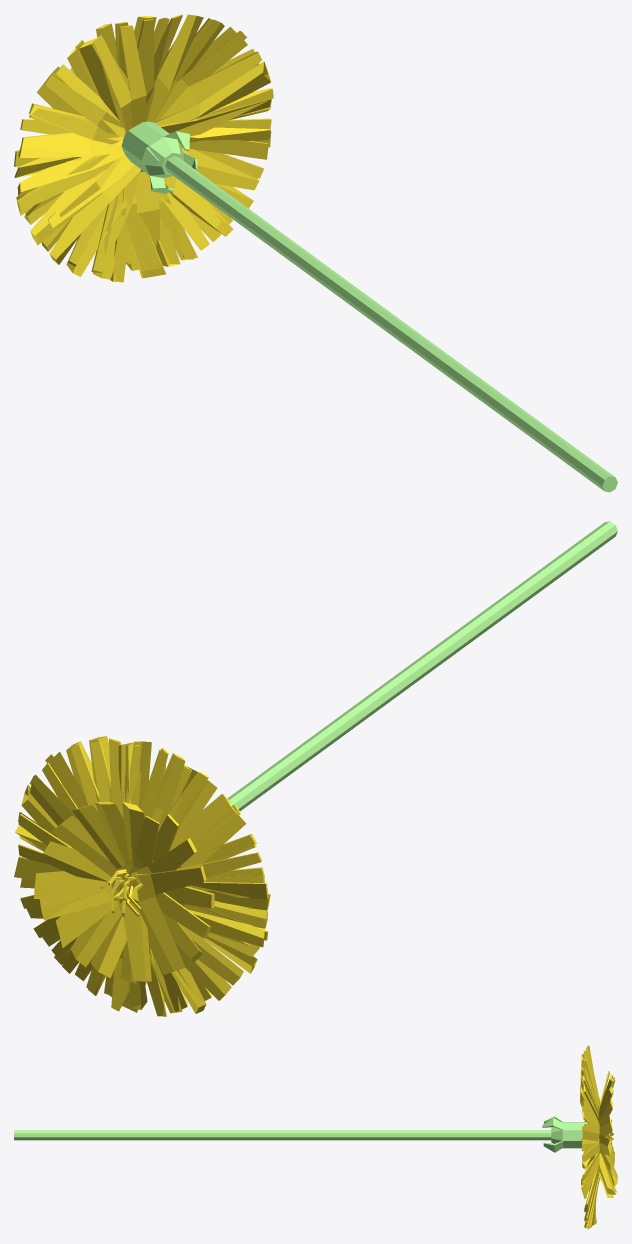
The model's file is dandelion (3).fbx.
3 renders of one model, top to bottom at view 1: azimuth 30°, elevation 25°; view 2: azimuth 150°, elevation 25°; view 3: azimuth 270°, elevation 25°, orthographic. The views are drawn at different scales.
Parts seen in each view (by area): view 1: Plane; view 2: Plane; view 3: Plane.
Part boxes in pixels (left/top/right/bottom): Plane: left=14, top=14, right=617, bottom=492; Plane: left=14, top=521, right=617, bottom=1016; Plane: left=14, top=1045, right=617, bottom=1229.
Size of the model in its own units: 2.52 by 2.54 by 8.43.
2 materials, 2 textured.
